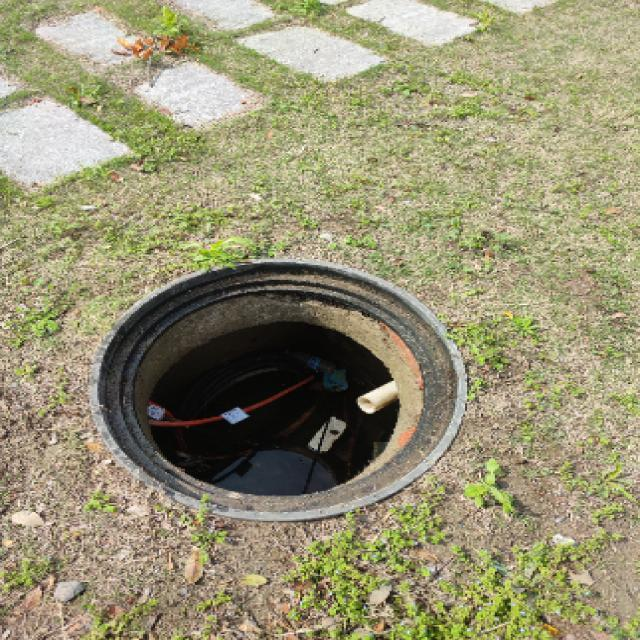Faulty: (86, 256, 466, 520)
